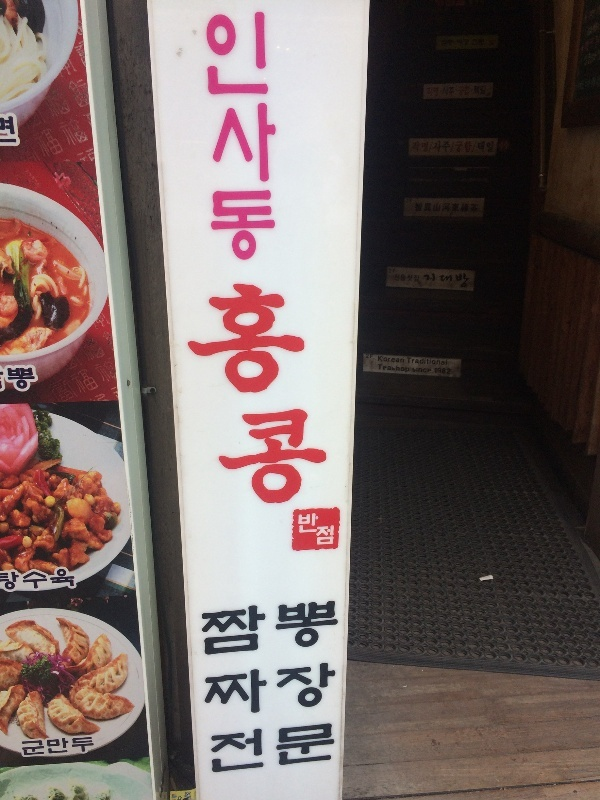text: (209, 11, 224, 261), (225, 11, 240, 261), (241, 11, 256, 261), (257, 11, 272, 261), (193, 279, 208, 522), (209, 279, 224, 522), (225, 279, 240, 522), (241, 279, 256, 522), (257, 279, 272, 522), (273, 279, 288, 522), (289, 279, 304, 522), (305, 279, 320, 522), (321, 279, 334, 522), (180, 279, 192, 522), (209, 604, 224, 777), (225, 604, 240, 777), (241, 604, 256, 777), (289, 601, 304, 768), (305, 601, 320, 768), (321, 601, 336, 768), (275, 601, 288, 768), (257, 604, 267, 777), (200, 604, 208, 777), (273, 11, 277, 261), (206, 11, 208, 261), (305, 513, 320, 546), (321, 513, 335, 546), (33, 567, 48, 590), (49, 567, 64, 590), (1, 570, 16, 593), (337, 601, 339, 768), (17, 367, 32, 389), (33, 736, 48, 756), (49, 736, 64, 756), (65, 736, 80, 756), (433, 272, 448, 290), (449, 272, 464, 290), (81, 736, 94, 756), (65, 567, 75, 590), (434, 140, 448, 155), (465, 140, 480, 154), (481, 139, 494, 155), (23, 567, 32, 590), (22, 736, 32, 756), (298, 513, 304, 546), (433, 84, 448, 97), (449, 84, 464, 97), (465, 84, 480, 97), (417, 140, 429, 155), (417, 202, 432, 214), (433, 202, 448, 214), (449, 202, 464, 214), (465, 202, 480, 214), (8, 367, 16, 389), (385, 363, 400, 374), (401, 272, 416, 283), (423, 272, 432, 290), (385, 355, 400, 364), (417, 357, 432, 366), (433, 357, 448, 366), (434, 367, 448, 376), (456, 140, 464, 154), (417, 367, 432, 374), (401, 363, 410, 374), (465, 272, 470, 290), (407, 357, 416, 366), (426, 84, 432, 97), (17, 570, 20, 593), (378, 363, 384, 374), (481, 84, 486, 97), (395, 272, 400, 283), (378, 355, 384, 364), (413, 140, 416, 155), (449, 140, 452, 155), (33, 367, 35, 389), (417, 272, 420, 283), (478, 139, 480, 155), (412, 367, 416, 374), (401, 355, 404, 364), (449, 367, 451, 376)
